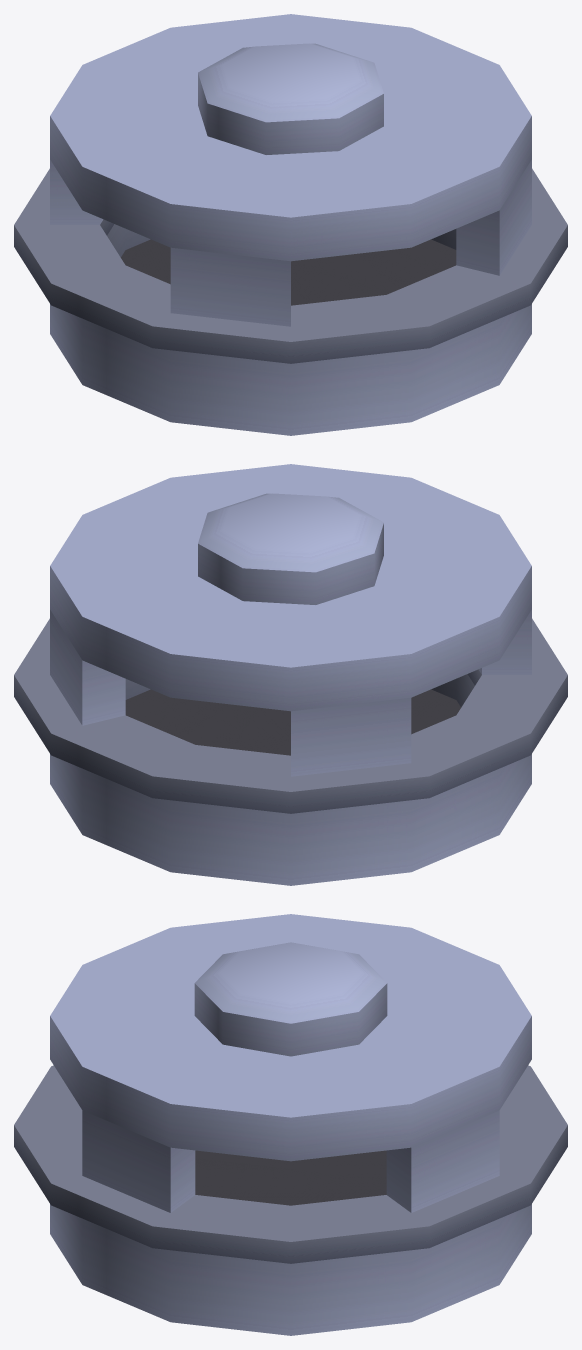
Rendered from tower-round-middle-c.glb.
3 renders of one model, top to bottom at view 1: azimuth 30°, elevation 25°; view 2: azimuth 150°, elevation 25°; view 3: azimuth 270°, elevation 25°, orthographic.
Parts seen in each view (by area): view 1: tower-round-middle-c; view 2: tower-round-middle-c; view 3: tower-round-middle-c.
Boxes of the visible parts, left/top/right/bottom form: tower-round-middle-c: left=14, top=14, right=567, bottom=435; tower-round-middle-c: left=14, top=464, right=567, bottom=885; tower-round-middle-c: left=14, top=914, right=567, bottom=1335.
Bounding box in the file's own units: 1.15 × 0.6 × 1.15.
Materials: 1 (1 with a texture image).
